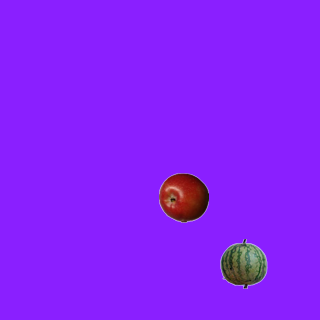Apple Braeburn: (158, 172, 208, 222)
Watermelon: (218, 238, 268, 288)
